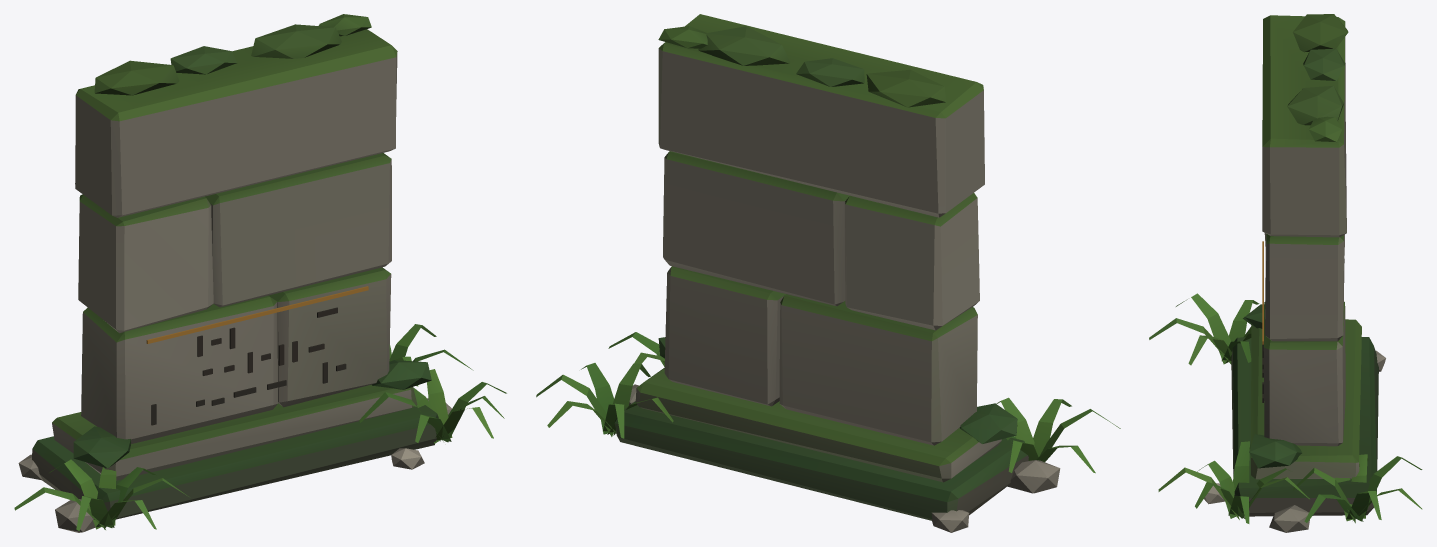
File: stele.glb
3 views of the same model, side by side, from view 1: azimuth 30°, elevation 25°; view 2: azimuth 150°, elevation 25°; view 3: azimuth 270°, elevation 25° (orthographic). The views are drawn at different scales.
Parts seen in each view (by area): view 1: stele; view 2: stele; view 3: stele.
Part boxes in pixels (<box>): stele: <box>14,14,506,532</box>; stele: <box>536,14,1120,532</box>; stele: <box>1149,14,1422,532</box>.
Bounding box in the file's own units: 3.57 × 2.9 × 1.87.
